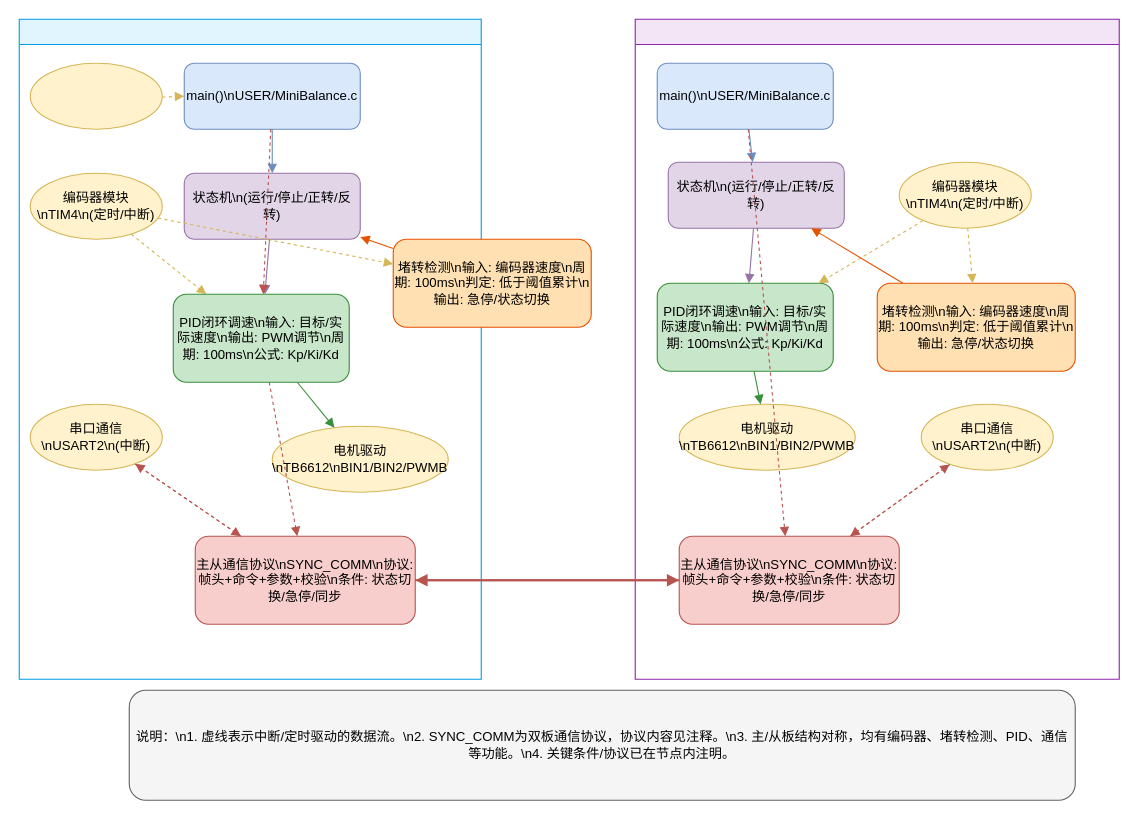
The diagram is 1139 pixels wide and 820 high, and some of its shapes have lost their labels. Here are the shapes that lost their labels. From the top down, the box of each, then its label:
(29, 62, 162, 129): 按键输入\nKEY2\n(外部中断)
(18, 18, 481, 679): 主板 (IS_MASTER_BOARD=1)
(634, 18, 1119, 679): 从板 (IS_MASTER_BOARD=0)
